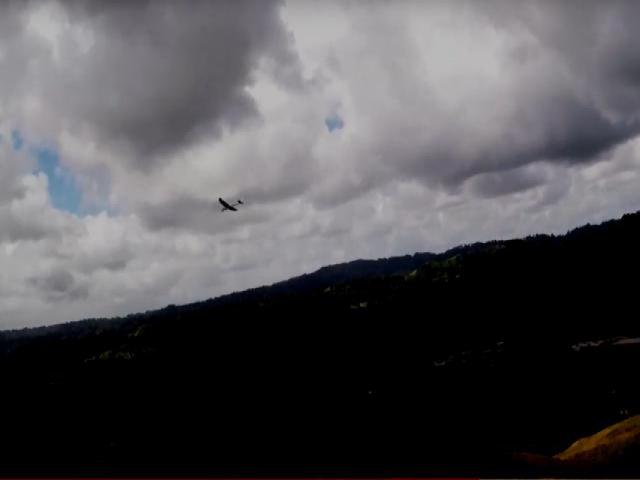iha: (217, 192, 244, 213)
